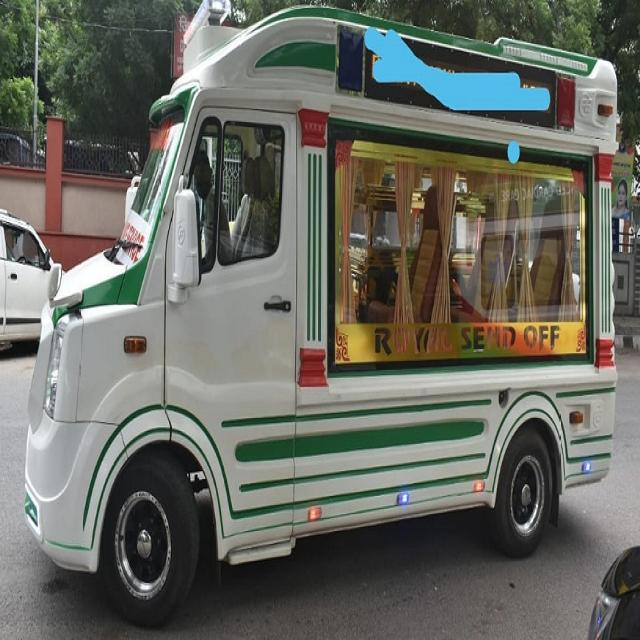emergency: (24, 9, 616, 623)
